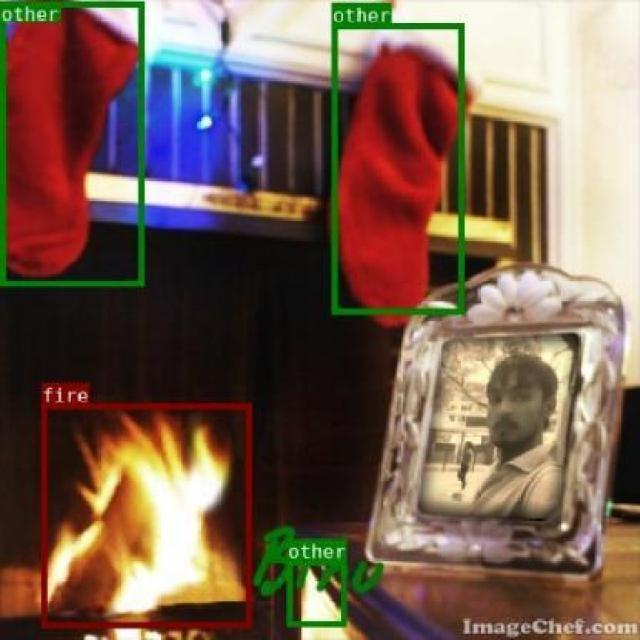fire: (40, 402, 251, 627)
